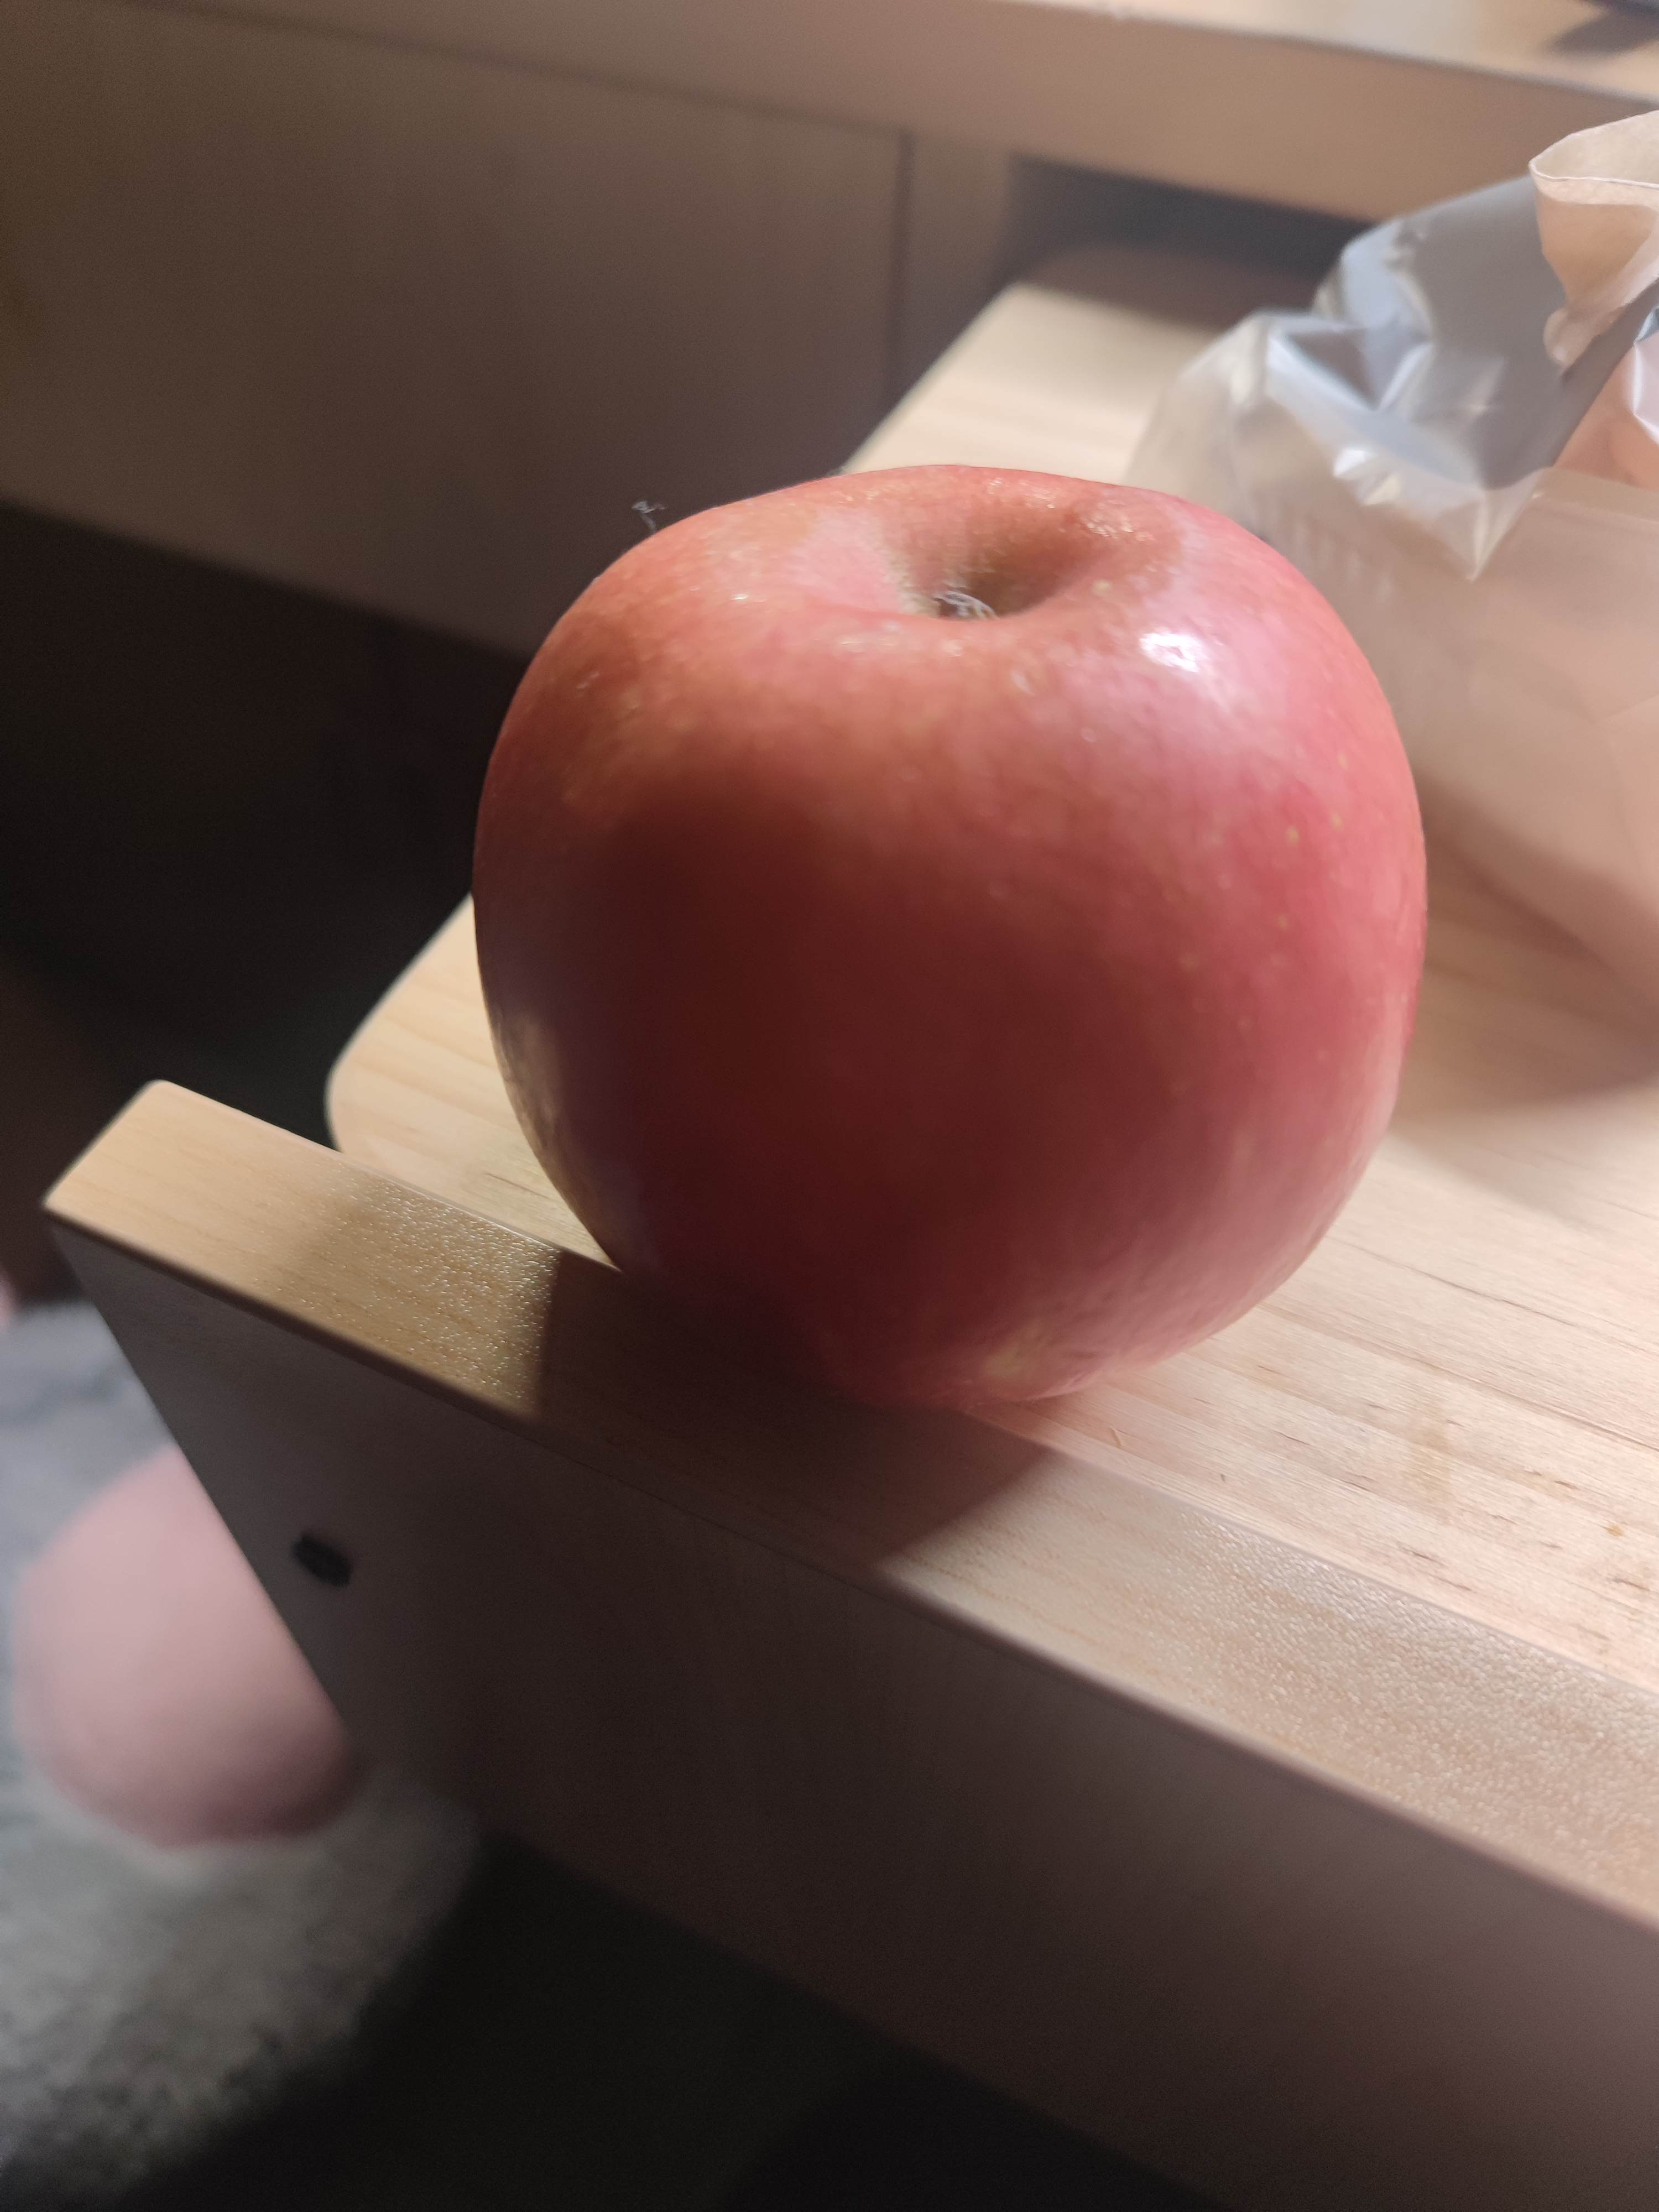apple: (465, 456, 1436, 1418)
